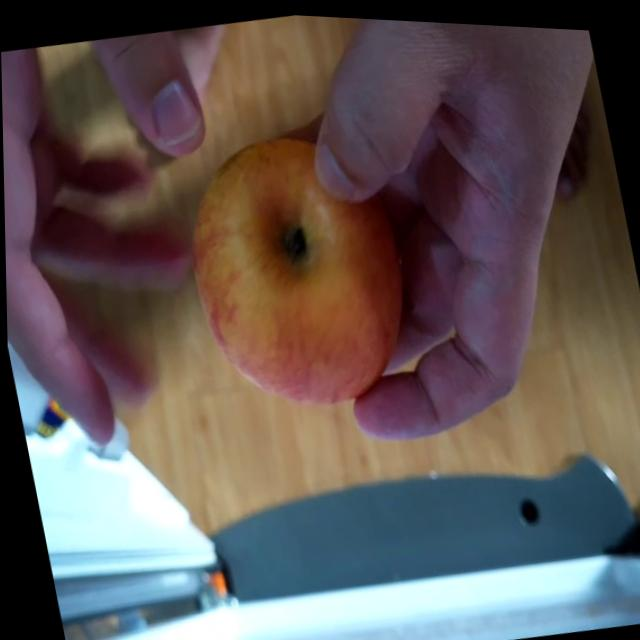apple: (163, 109, 426, 427)
